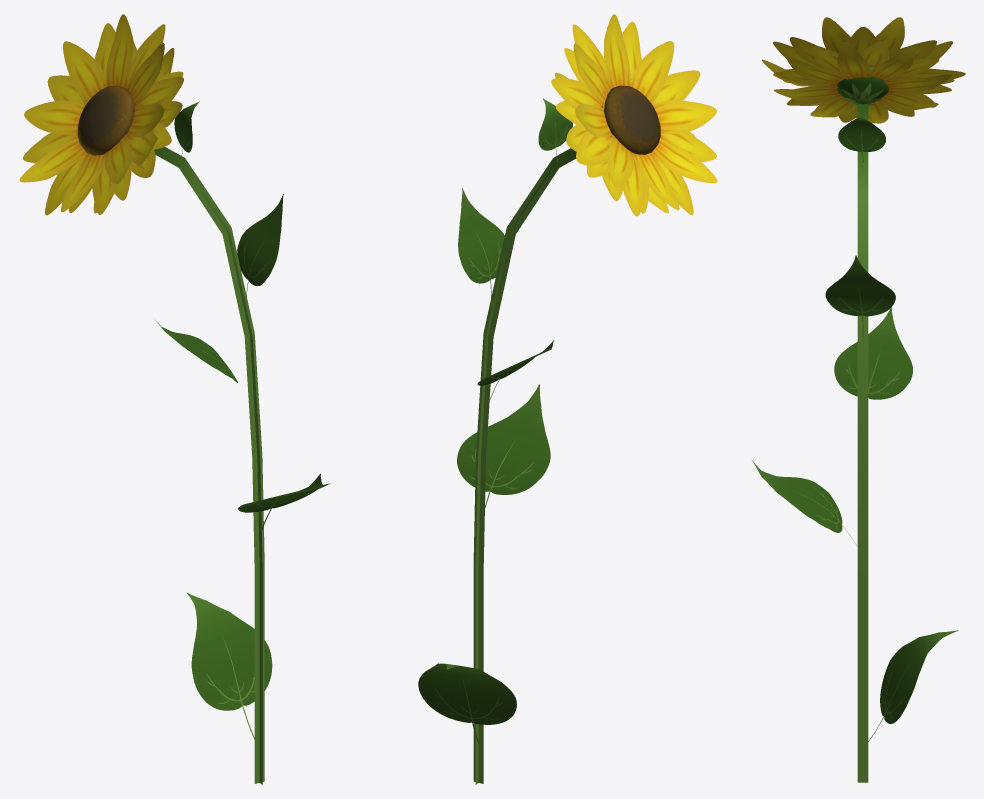
Rendered from sunflower.glb.
3 views of the same model, side by side, from view 1: azimuth 30°, elevation 25°; view 2: azimuth 150°, elevation 25°; view 3: azimuth 270°, elevation 25° (orthographic). The views are drawn at different scales.
Visible parts, largest first — view 1: pPlane59, pPlane58, pPlane3, pPlane60, pSphere1, pPlane61; view 2: pPlane59, pPlane58, pPlane3, pPlane60, pSphere1, pPlane61; view 3: pPlane59, pPlane61, pPlane3, pPlane60, pPlane58, pSphere1.
Boxes of the visible parts, x1,y1,x2,y2 form: pPlane59: (155, 101, 330, 739); pPlane58: (19, 14, 164, 212); pPlane3: (154, 147, 264, 784); pPlane60: (23, 23, 183, 215); pSphere1: (77, 85, 136, 155); pPlane61: (42, 36, 183, 213); pPlane59: (418, 98, 572, 744); pPlane58: (573, 14, 717, 210); pPlane3: (473, 148, 576, 784); pPlane60: (551, 21, 716, 216); pSphere1: (601, 85, 660, 154); pPlane61: (555, 48, 695, 213); pPlane59: (752, 117, 958, 741); pPlane61: (774, 41, 952, 123); pPlane3: (857, 103, 868, 782); pPlane60: (762, 27, 965, 118); pPlane58: (773, 17, 954, 86); pSphere1: (837, 67, 894, 104).
Size of the model in its own units: 12.8 by 35.73 by 9.83.
Materials: 2 (2 with a texture image).
